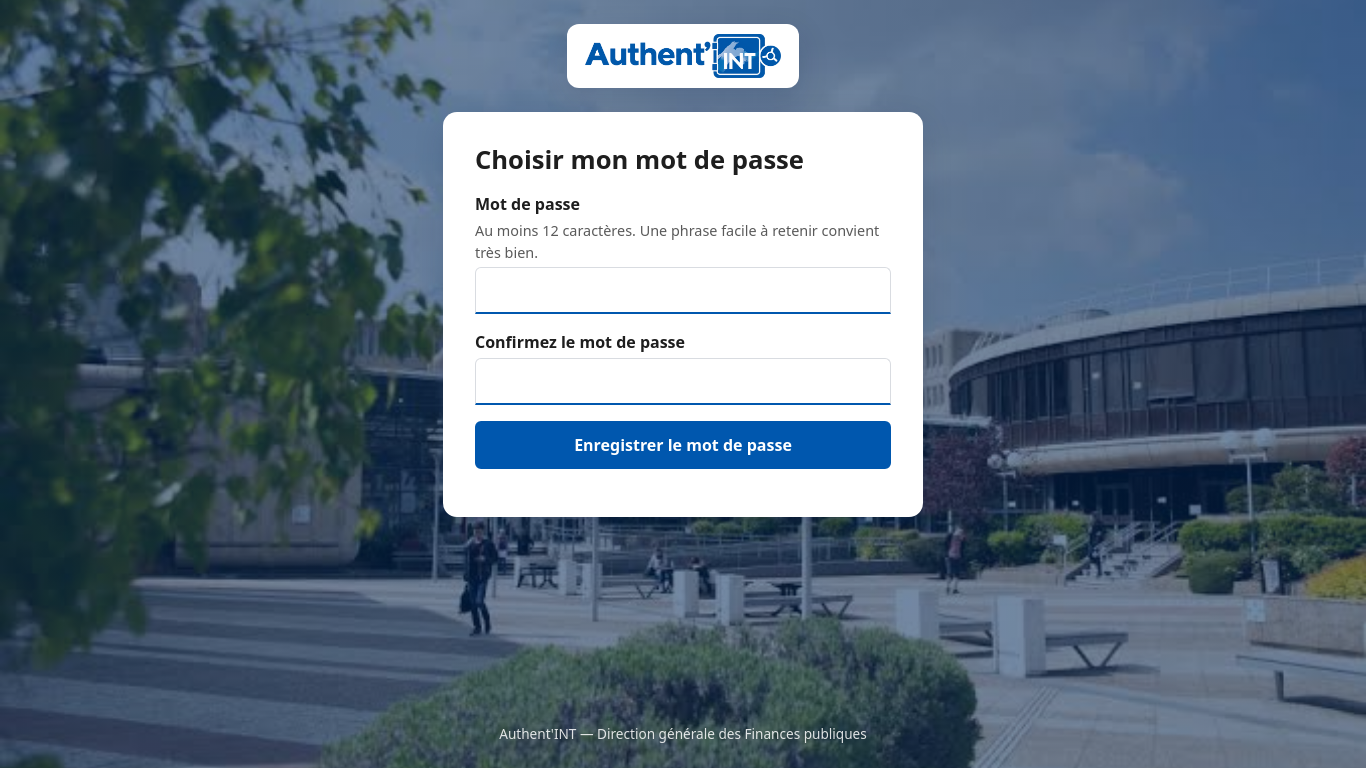
Test: choosing a password (activation) › asks for 12 characters at least
The image size is (1366, 768).
Step 1. Type "trop-court" into the password field labelled "Mot de passe" → x=683, y=291, box [475,267,891,314]
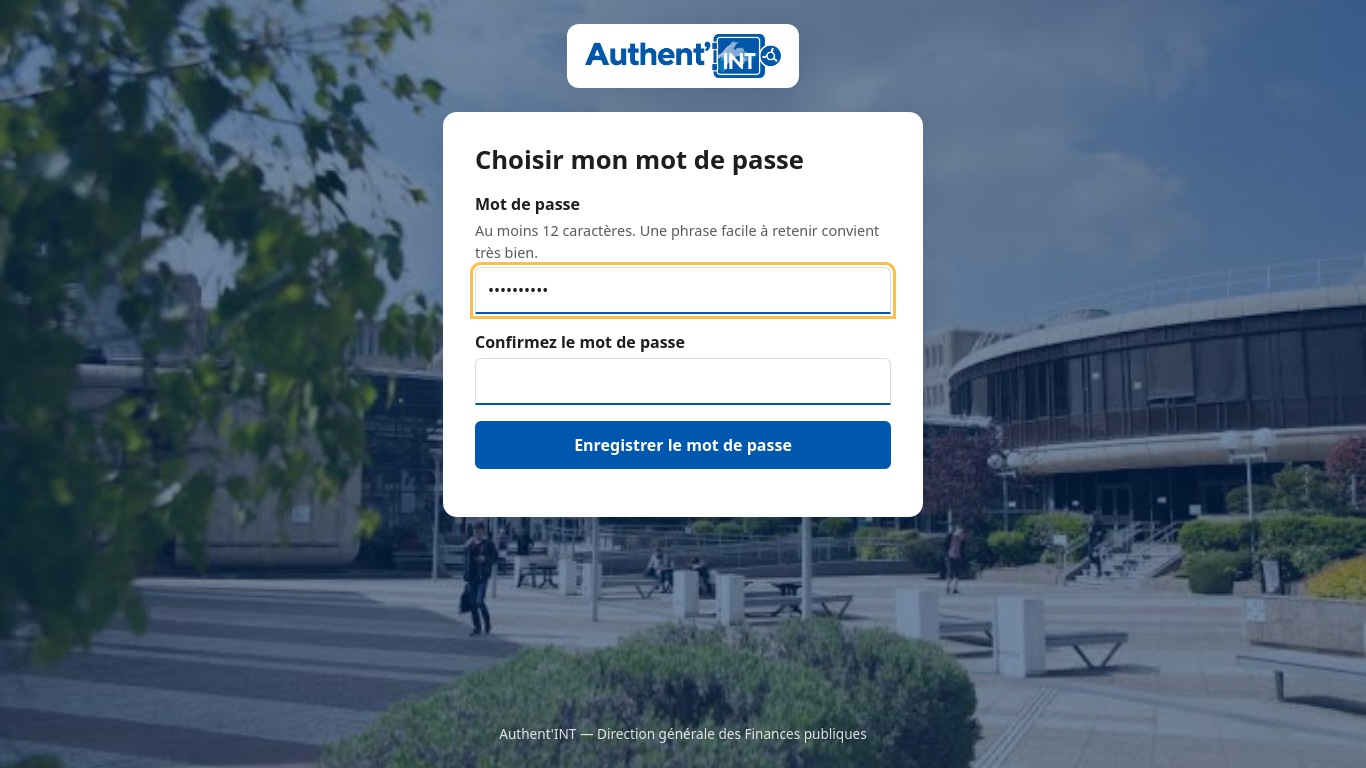
Step 2. Type "trop-court" into the password field labelled "Confirmez le mot de passe" → x=683, y=382, box [475,358,891,405]
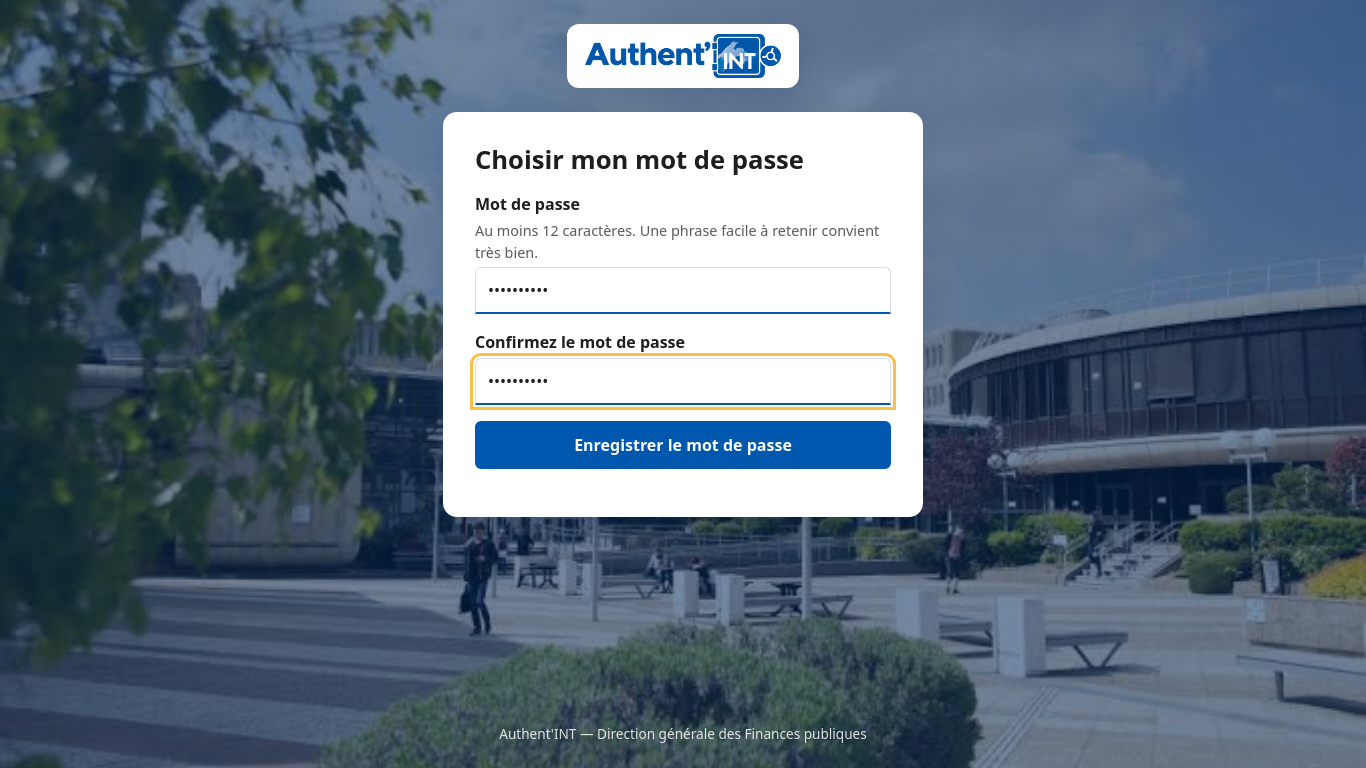
Step 3. Click the button "Enregistrer le mot de passe" → x=683, y=445, box [475,421,891,469]
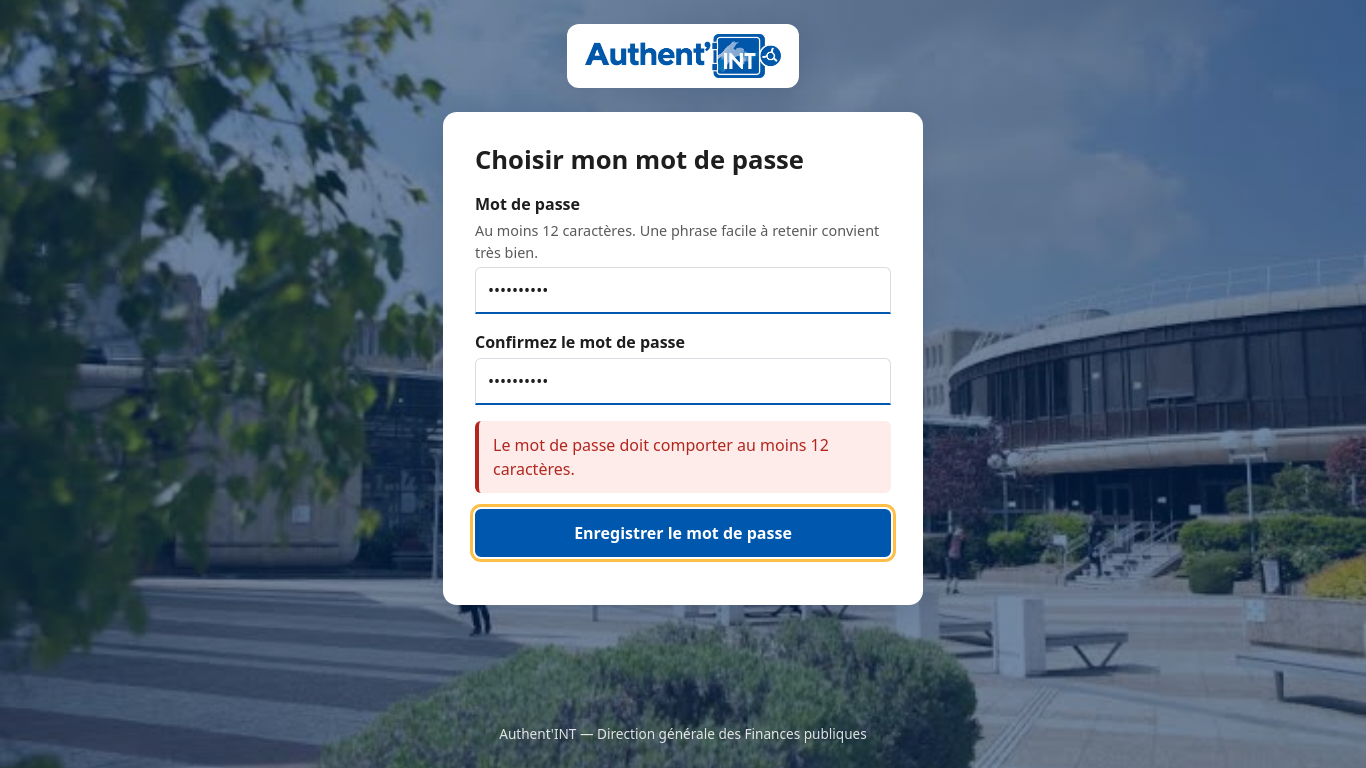
Now the message shows "au moins 12 caractères", box [493,434,829,480]
